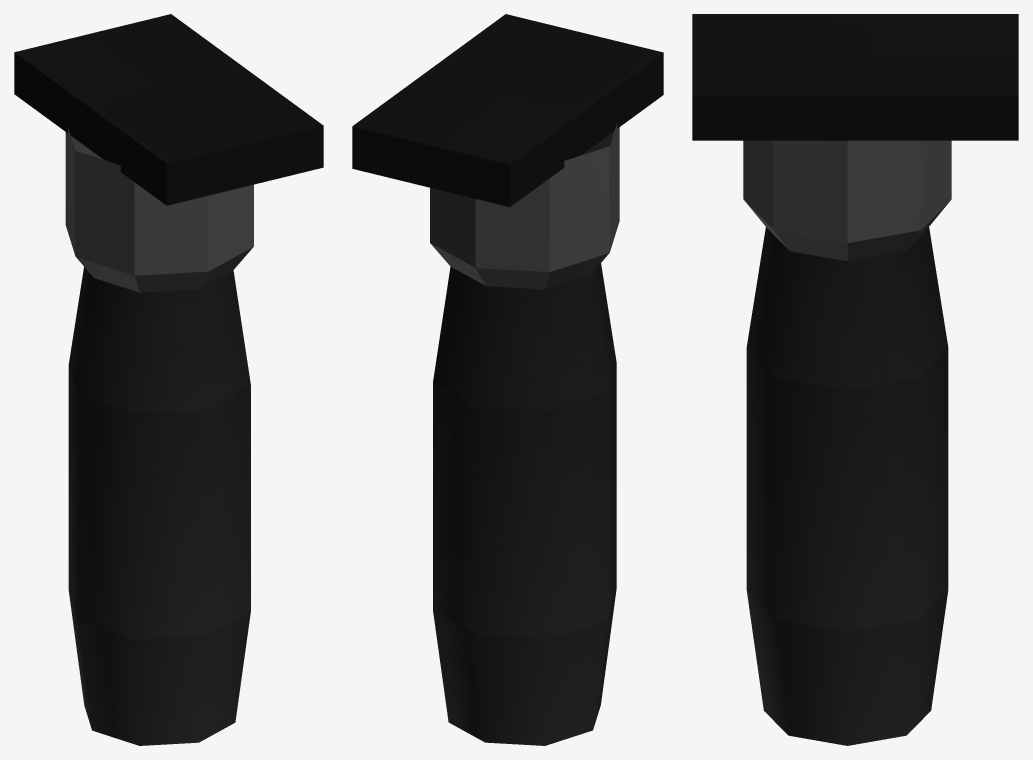
File: Foregrip_mesh.fbx
3 views of the same model, side by side, from view 1: azimuth 30°, elevation 25°; view 2: azimuth 150°, elevation 25°; view 3: azimuth 270°, elevation 25° (orthographic). The views are drawn at different scales.
Visible parts, largest first — view 1: Foregrip_mesh; view 2: Foregrip_mesh; view 3: Foregrip_mesh.
Boxes of the visible parts, bbox=[...] form: Foregrip_mesh: bbox=[14, 14, 323, 745]; Foregrip_mesh: bbox=[352, 14, 663, 745]; Foregrip_mesh: bbox=[692, 14, 1018, 745].
Bounding box in the file's own units: 2.93 × 9.87 × 4.41.
